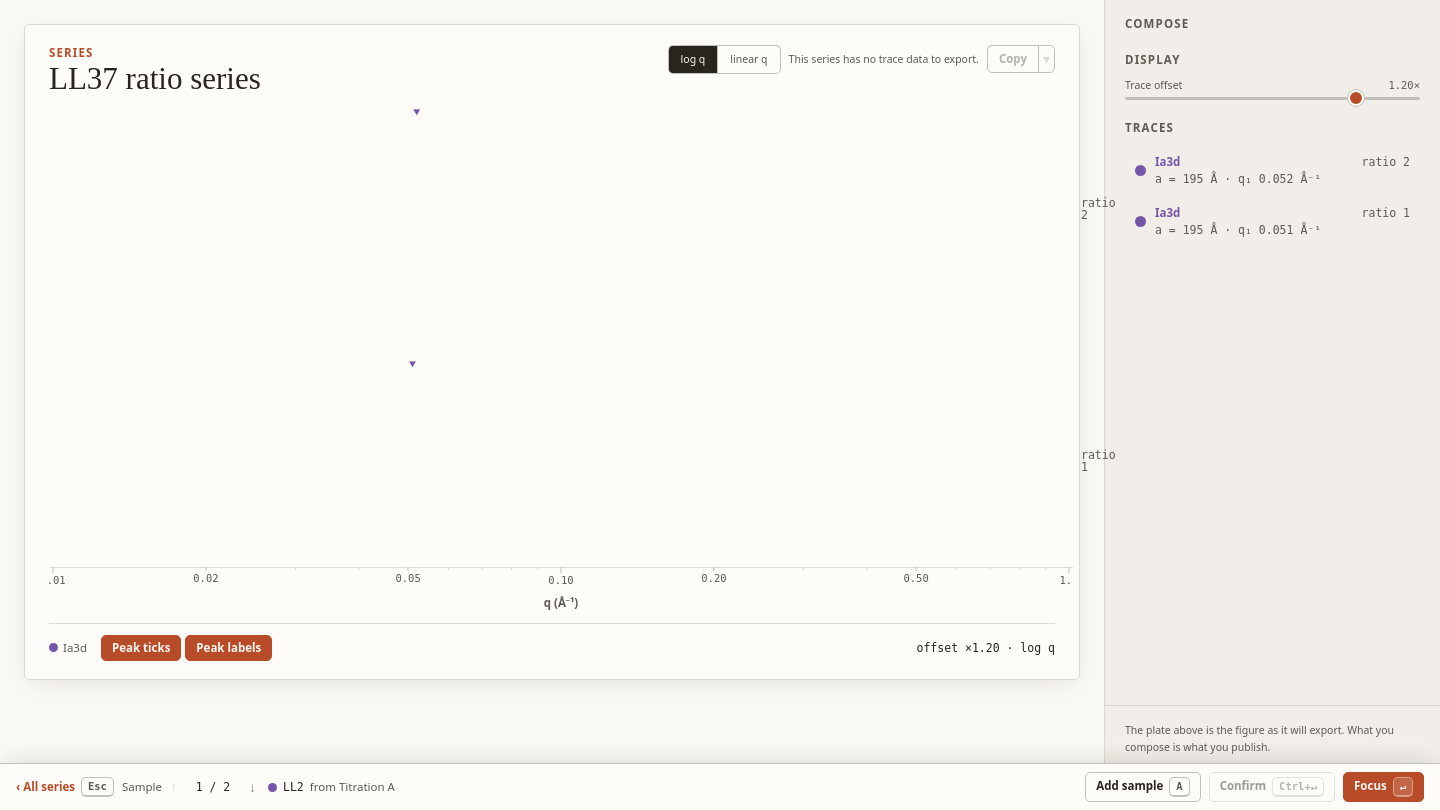
Test: SeriesBuilderPage › the contextual dock (§7) › names the current member (name + 'from <experiment>') in the identity segment
Check: the text with test id "dock-identity-name" reads "LL2", box [283, 780, 304, 794]
Check: the text "from Titration A" is shown, box [310, 779, 395, 795]
Note: Stepping the cursor renames the identity segment.
Click the button with test id "dock-next-sample" at (252, 787), box [245, 776, 260, 798]
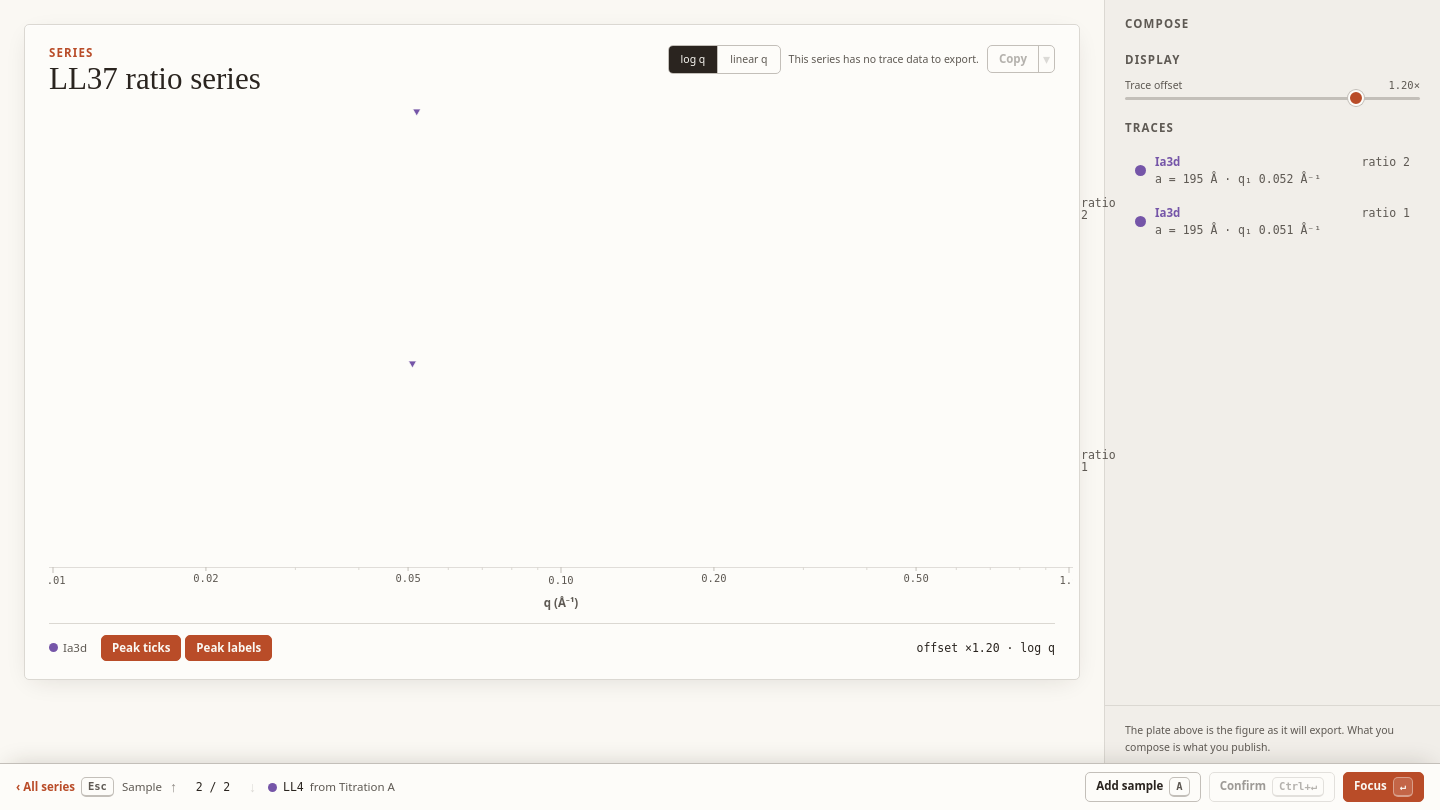
Check: the text with test id "dock-identity-name" reads "LL4", box [283, 780, 304, 794]
